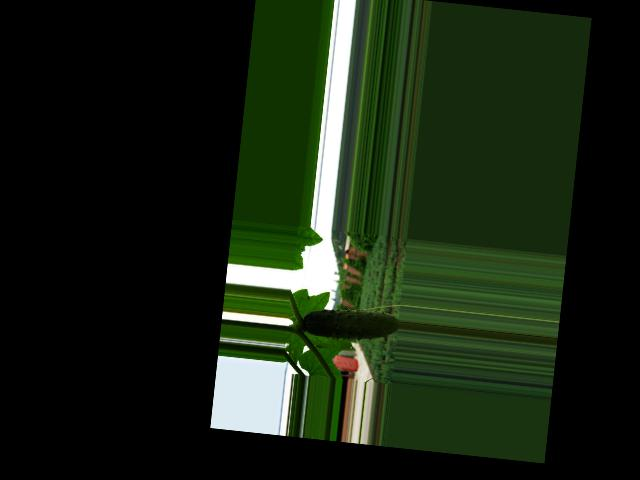cucumber: (302, 303, 400, 344)
